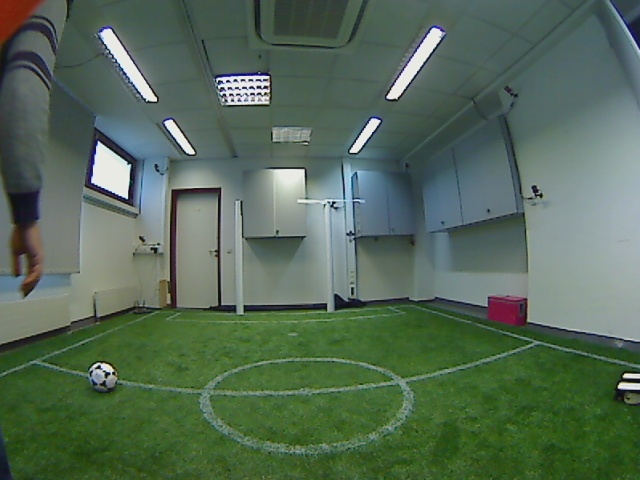ball: (84, 360, 123, 397)
